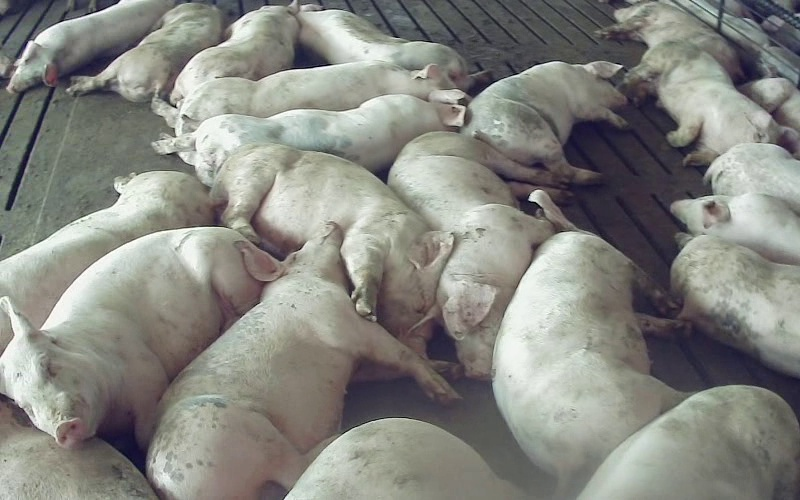pig: (147, 224, 458, 499), (493, 190, 688, 495), (0, 227, 263, 449), (211, 144, 452, 353), (388, 132, 569, 378), (152, 94, 464, 185), (578, 385, 799, 499), (152, 61, 463, 134), (621, 41, 799, 164), (463, 61, 626, 183), (671, 233, 799, 377), (67, 3, 222, 101), (297, 4, 470, 89), (170, 4, 298, 104), (595, 2, 742, 80), (671, 193, 799, 264), (704, 143, 799, 213)
